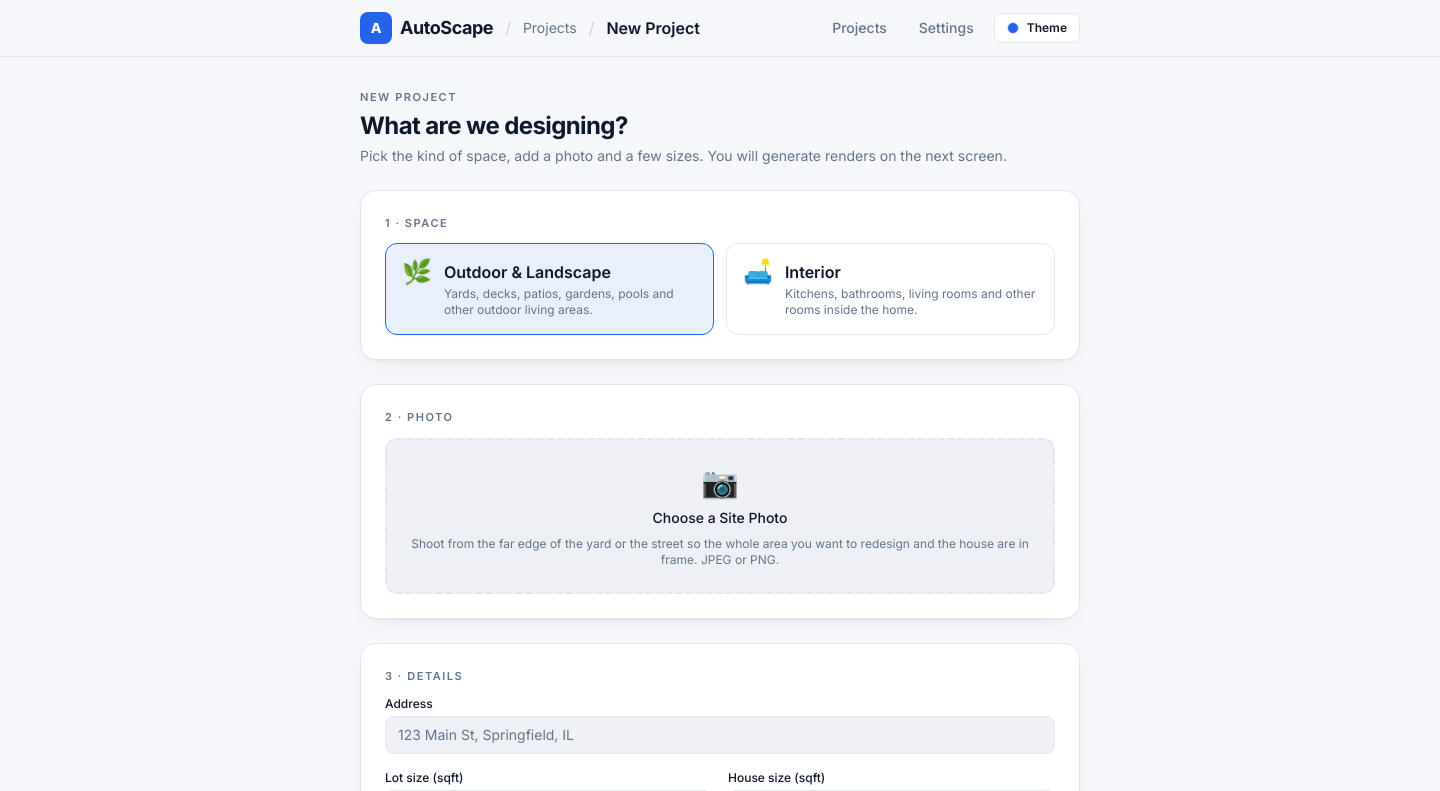
Test: NewProjectPage › shows error when Save is clicked without selecting a photo
Type "999 Test Blvd" into the field with placeholder "123 Main St, Springfield, IL" at (720, 735), box top-left (385, 716), bottom-right (1055, 754)
(page scrolled)
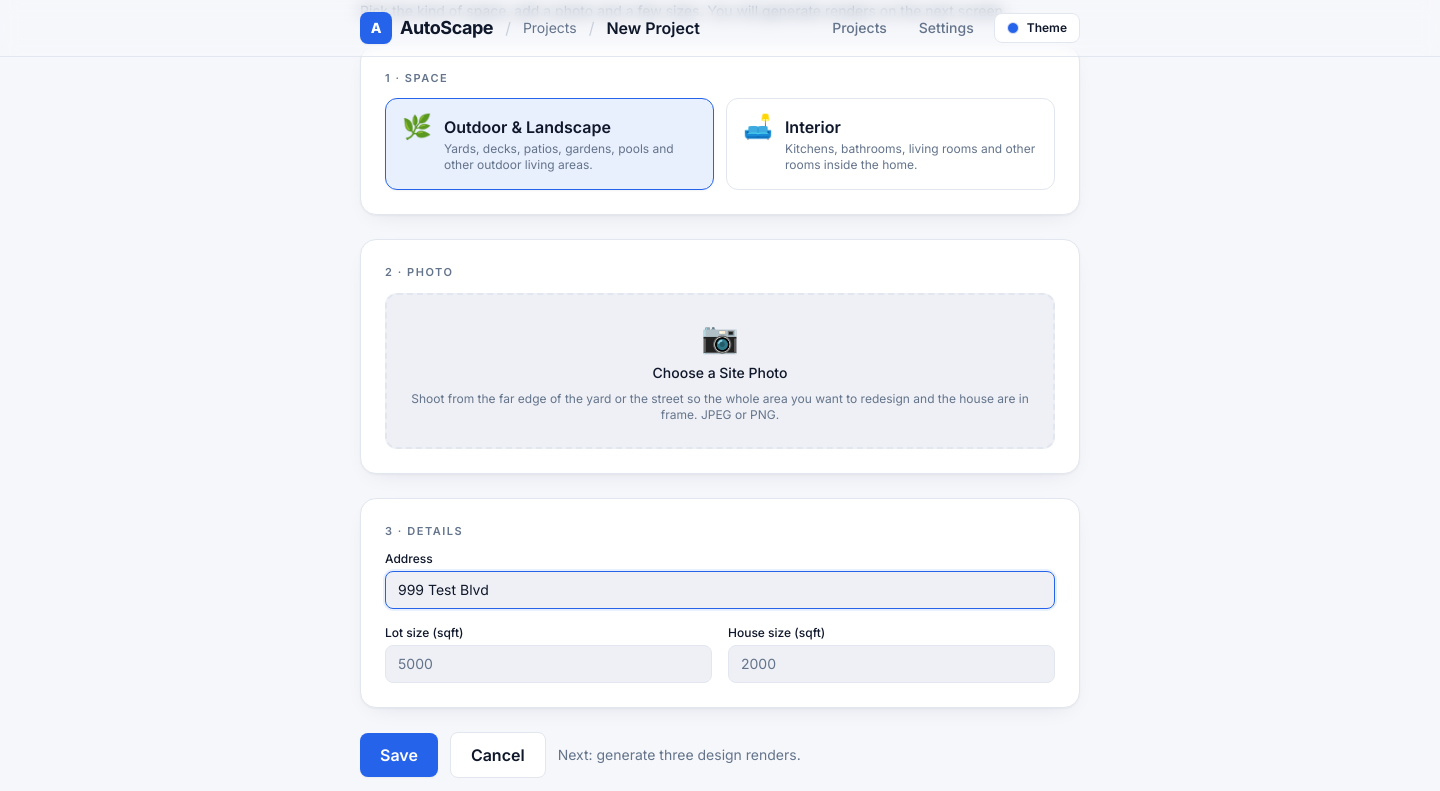
Type "3000" into the number field with placeholder "5000" at (548, 664), box top-left (385, 645), bottom-right (712, 683)
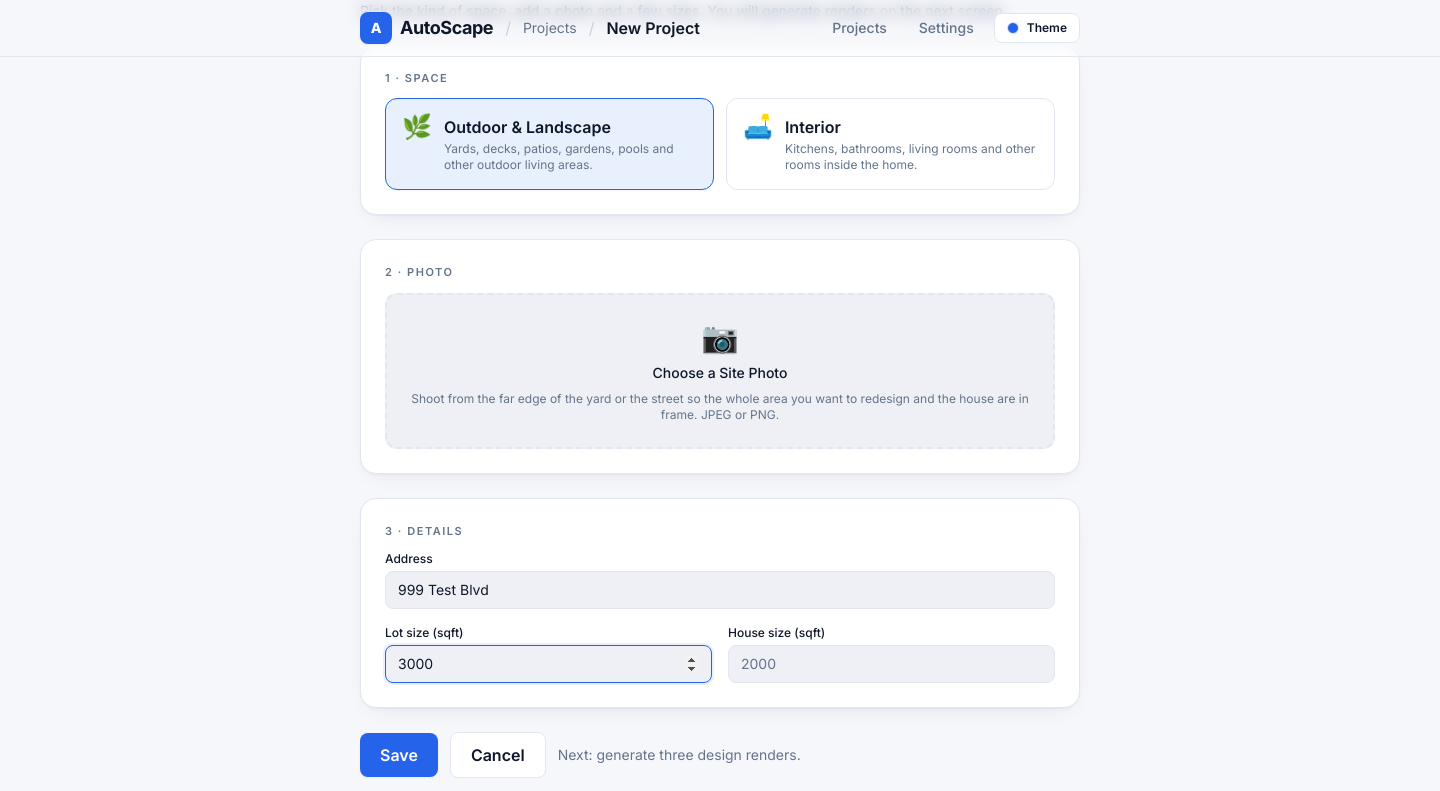
Type "1500" into the number field with placeholder "2000" at (892, 664), box top-left (728, 645), bottom-right (1055, 683)
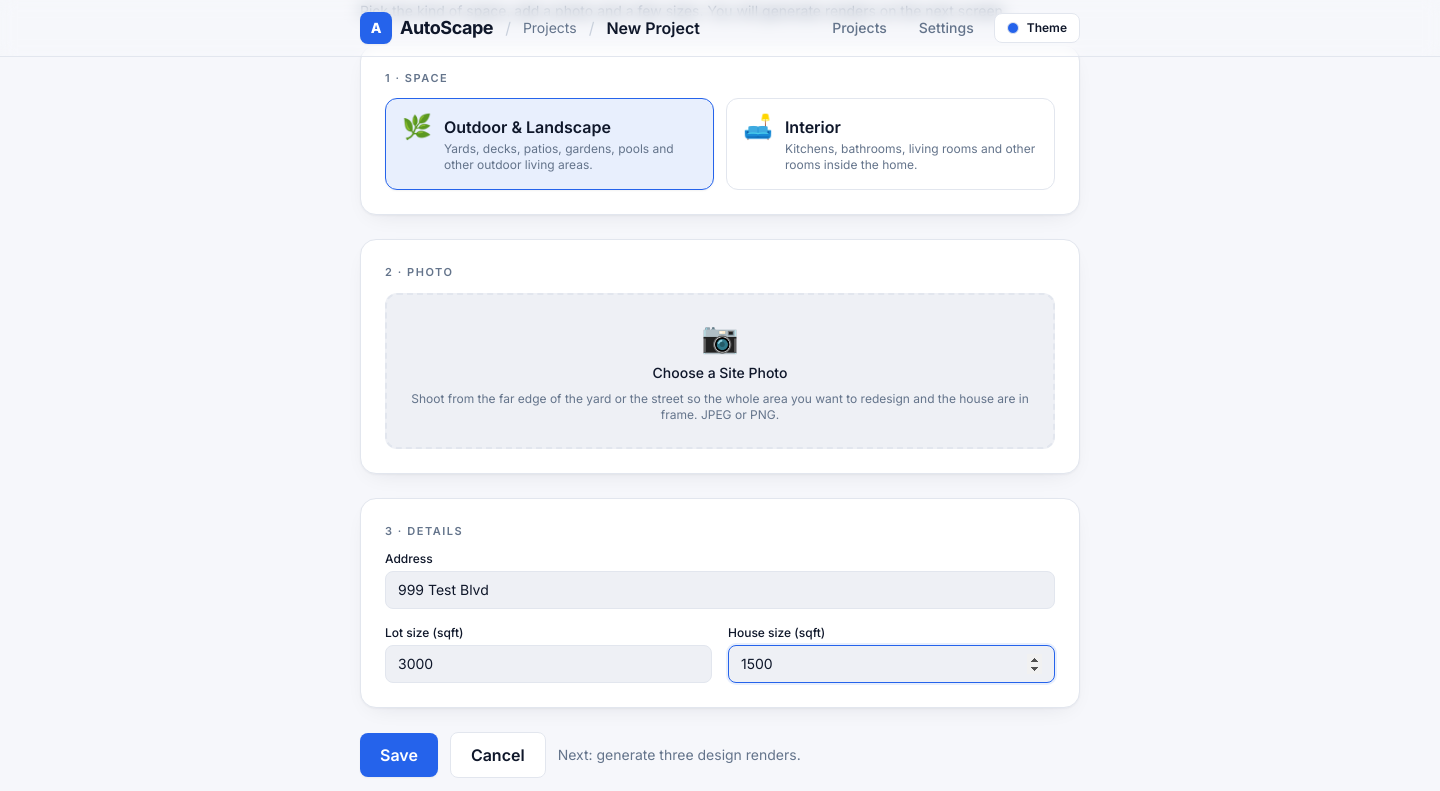
Click the button "Save" at (399, 755), box top-left (360, 733), bottom-right (438, 777)
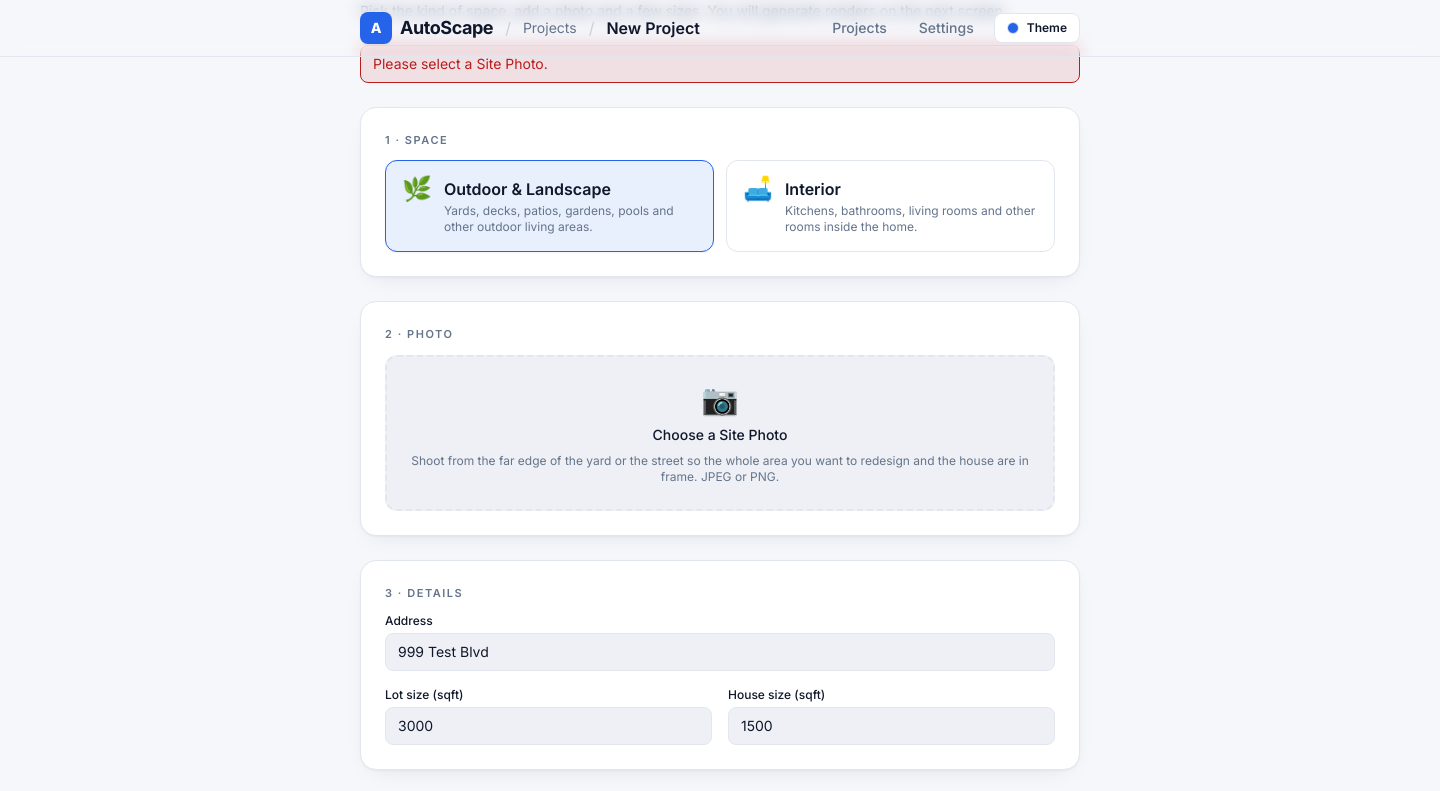
Expected: the text "Please select a Site Photo." is shown, top-left (360, 44), bottom-right (1080, 82)
